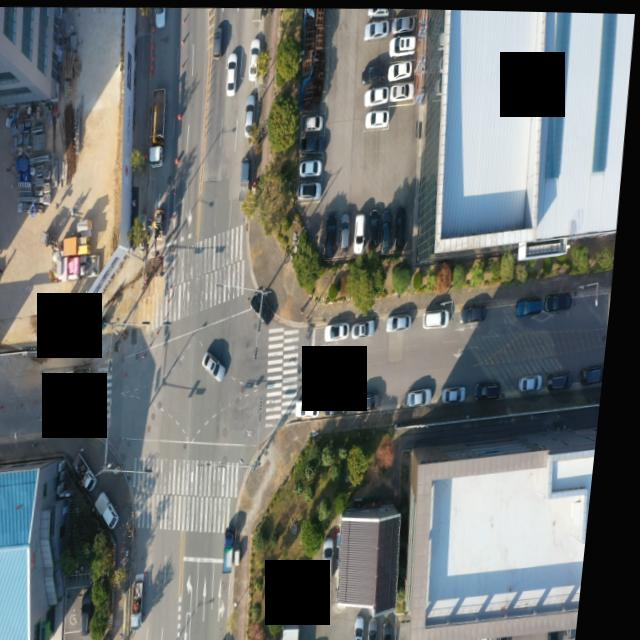car: (251, 290, 281, 323), (329, 536, 348, 584), (90, 586, 107, 632), (208, 350, 234, 380), (396, 203, 413, 247), (382, 206, 397, 251), (388, 32, 417, 55), (225, 52, 240, 94), (327, 213, 342, 255), (369, 207, 384, 248), (246, 37, 260, 80), (357, 211, 372, 250), (301, 395, 327, 417), (362, 61, 388, 83), (587, 360, 612, 382), (390, 11, 416, 32), (520, 293, 547, 313), (341, 211, 355, 249), (365, 16, 390, 37), (429, 307, 456, 326), (465, 304, 492, 323), (413, 386, 441, 404), (550, 290, 578, 308), (331, 393, 355, 414), (365, 85, 390, 105), (367, 107, 392, 127), (481, 379, 507, 397), (388, 59, 411, 79), (330, 320, 354, 339), (357, 318, 382, 336), (391, 313, 417, 330), (244, 95, 257, 129), (526, 369, 550, 387), (393, 79, 416, 97), (301, 156, 324, 174), (449, 383, 472, 401), (300, 181, 324, 198), (362, 391, 386, 408), (303, 135, 325, 153), (211, 24, 222, 56), (555, 368, 576, 384), (152, 6, 166, 30), (365, 614, 377, 640), (393, 616, 406, 640), (305, 113, 324, 129), (379, 617, 390, 640), (367, 6, 390, 15)
medium_truck: (147, 86, 171, 164)
small_truck: (77, 450, 109, 494), (102, 491, 130, 524), (142, 570, 159, 624), (232, 526, 248, 570), (240, 154, 255, 199), (71, 365, 99, 387)
